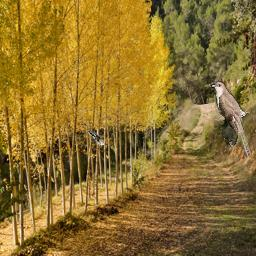Cuckoo: (211, 81, 252, 157), (88, 130, 105, 146)
